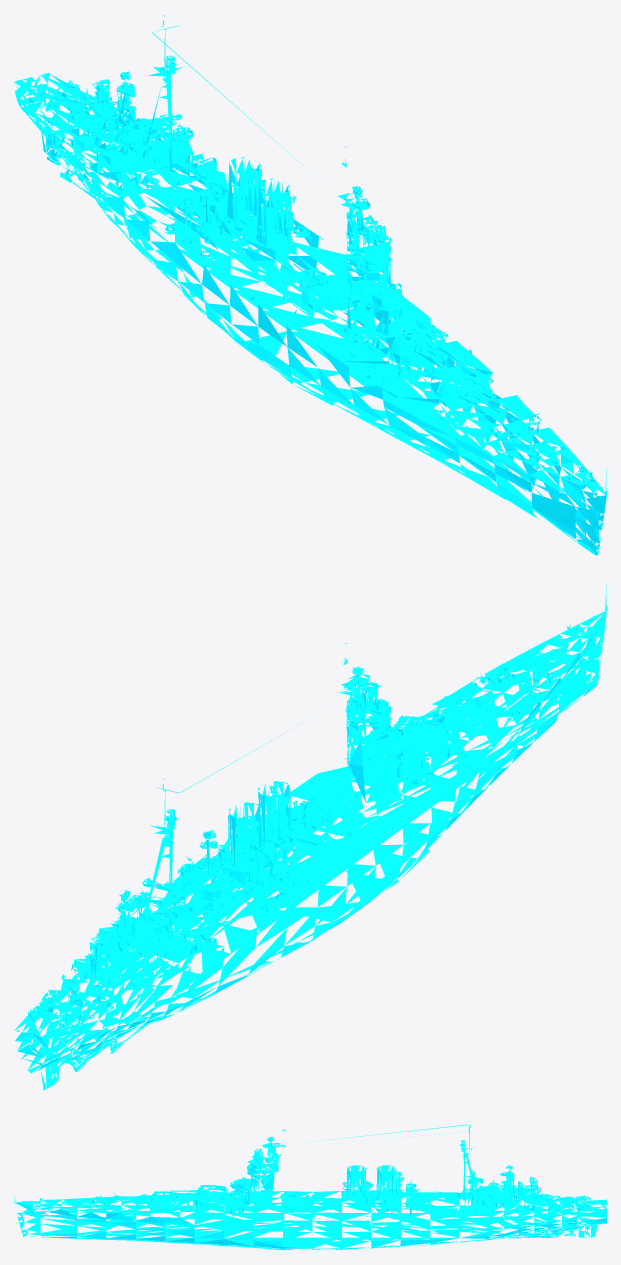
File: PBSB998.glb
3 views of the same model, one above another, from view 1: azimuth 30°, elevation 25°; view 2: azimuth 150°, elevation 25°; view 3: azimuth 270°, elevation 25° (orthographic). The views are drawn at different scales.
Parts seen in each view (by area): view 1: hull_mid, hull_bow, main_battery, hull_stern, secondary_battery, aa_mount, hull_body; view 2: hull_mid, hull_bow, hull_stern, main_battery, secondary_battery, aa_mount, hull_body; view 3: hull_mid, hull_bow, hull_stern, main_battery, secondary_battery, aa_mount, hull_body.
Boxes of the visible parts, x1,y1,x2,y2 form: hull_mid: (65,25,501,459); hull_bow: (415,395,606,555); main_battery: (283,260,510,416); hull_stern: (14,72,148,199); secondary_battery: (69,102,436,355); aa_mount: (33,79,539,437); hull_body: (91,71,385,245); hull_mid: (63,659,522,1048); hull_bow: (427,584,606,788); hull_stern: (14,971,148,1090); main_battery: (289,681,510,840); secondary_battery: (69,749,440,991); aa_mount: (32,668,540,1024); hull_body: (91,666,386,948); hull_mid: (139,1124,540,1250); hull_bow: (14,1194,165,1242); hull_stern: (512,1194,606,1238); main_battery: (123,1185,336,1209); secondary_battery: (229,1185,554,1218); aa_mount: (105,1178,587,1217); hull_body: (254,1136,537,1191).
Bounding box in the file's own units: 2.2 × 4.05 × 18.67.
